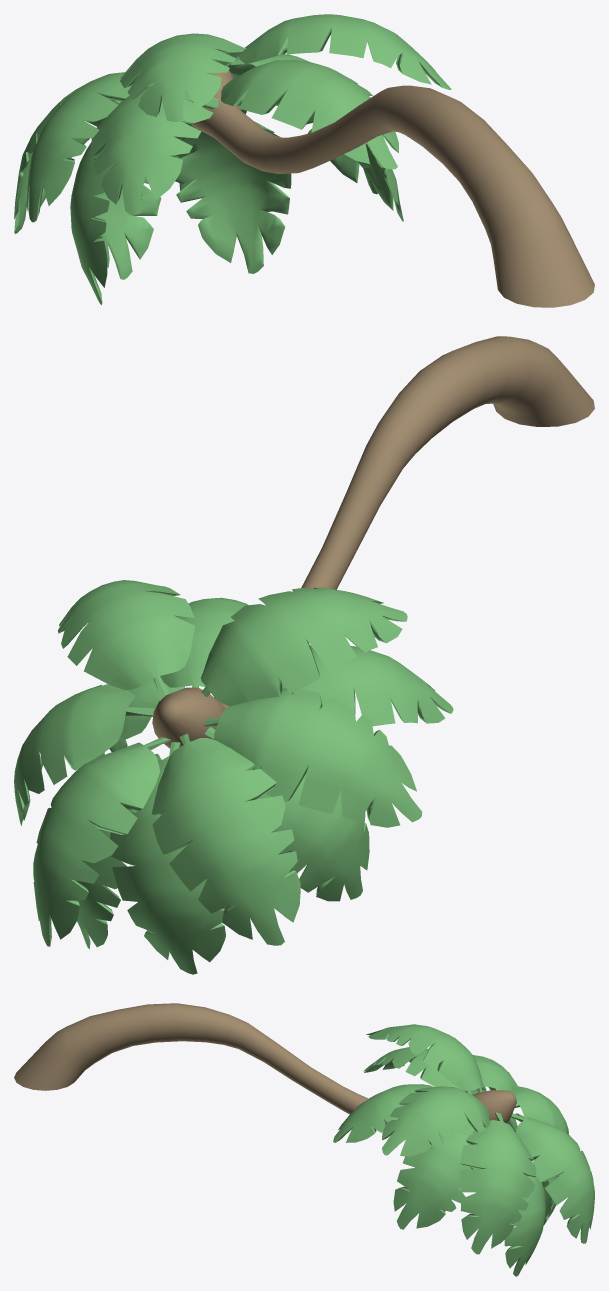
Rendered from Palm_C.fbx.
3 views of the same model, one above another, from view 1: azimuth 30°, elevation 25°; view 2: azimuth 150°, elevation 25°; view 3: azimuth 270°, elevation 25° (orthographic). The views are drawn at different scales.
Visible parts, largest first — view 1: Palm_Trunk_C, Frond15, Frond22, Frond, Frond21, Frond12, Frond20, Frond18, Frond17, Frond19, Frond14, Frond13; view 2: Palm_Trunk_C, Frond19, Frond20, Frond21, Frond16, Frond12, Frond17, Frond14, Frond18, Frond22, Frond, Frond15 (+1 smaller); view 3: Palm_Trunk_C, Frond14, Frond16, Frond12, Frond13, Frond21, Frond, Frond15, Frond22, Frond19, Frond20.
Boxes of the visible parts, x1,y1,x2,y2 form: Palm_Trunk_C: [190, 70, 594, 307]; Frond15: [174, 122, 291, 273]; Frond22: [91, 85, 219, 214]; Frond: [221, 60, 398, 169]; Frond21: [120, 33, 246, 121]; Frond12: [225, 14, 451, 89]; Frond20: [26, 72, 155, 222]; Frond18: [70, 142, 113, 304]; Frond17: [94, 164, 161, 279]; Frond19: [14, 77, 121, 233]; Frond14: [228, 54, 377, 194]; Frond13: [276, 100, 403, 221]; Palm_Trunk_C: [152, 336, 594, 748]; Frond19: [151, 733, 300, 945]; Frond20: [204, 688, 422, 827]; Frond21: [201, 587, 407, 706]; Frond16: [33, 737, 170, 946]; Frond12: [58, 580, 194, 698]; Frond17: [110, 742, 225, 974]; Frond14: [14, 684, 155, 825]; Frond18: [204, 727, 369, 901]; Frond22: [281, 645, 453, 726]; Frond: [160, 597, 248, 687]; Frond15: [77, 754, 168, 948]; Palm_Trunk_C: [14, 1003, 516, 1123]; Frond14: [460, 1112, 536, 1254]; Frond16: [511, 1113, 594, 1243]; Frond12: [382, 1086, 489, 1156]; Frond13: [393, 1123, 476, 1229]; Frond21: [366, 1024, 483, 1092]; Frond: [333, 1084, 433, 1142]; Frond15: [504, 1176, 545, 1276]; Frond22: [363, 1047, 475, 1094]; Frond19: [511, 1086, 568, 1134]; Frond20: [473, 1055, 517, 1091].
Size of the model in its own units: 7.65 by 7.65 by 16.22.
